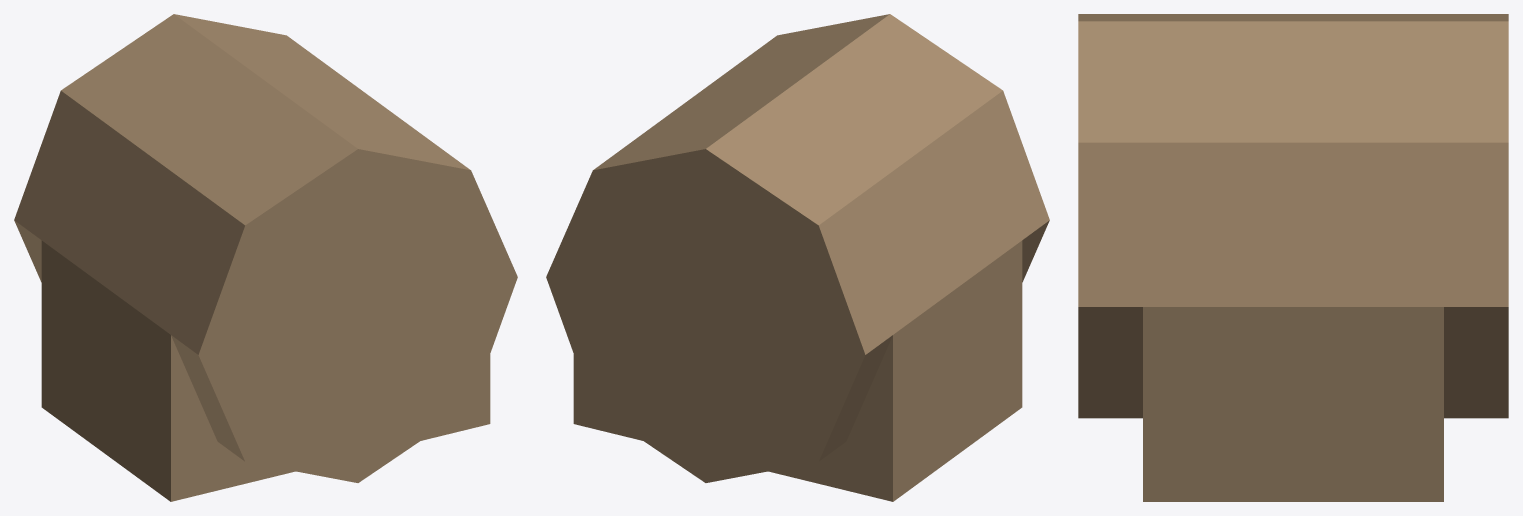
3 renders of one model, left to right at view 1: azimuth 30°, elevation 25°; view 2: azimuth 150°, elevation 25°; view 3: azimuth 270°, elevation 25°, orthographic. The views are drawn at different scales.
Visible parts, largest first — view 1: part1, part0; view 2: part1, part0; view 3: part1, part0.
Boxes of the visible parts, x1,y1,x2,y2 form: part1: (14,14,517,482); part0: (41,240,490,501); part1: (546,14,1049,482); part0: (573,240,1022,501); part1: (1078,14,1508,418); part0: (1143,307,1443,501).
Bounding box in the file's own units: 2 × 2 × 2.
